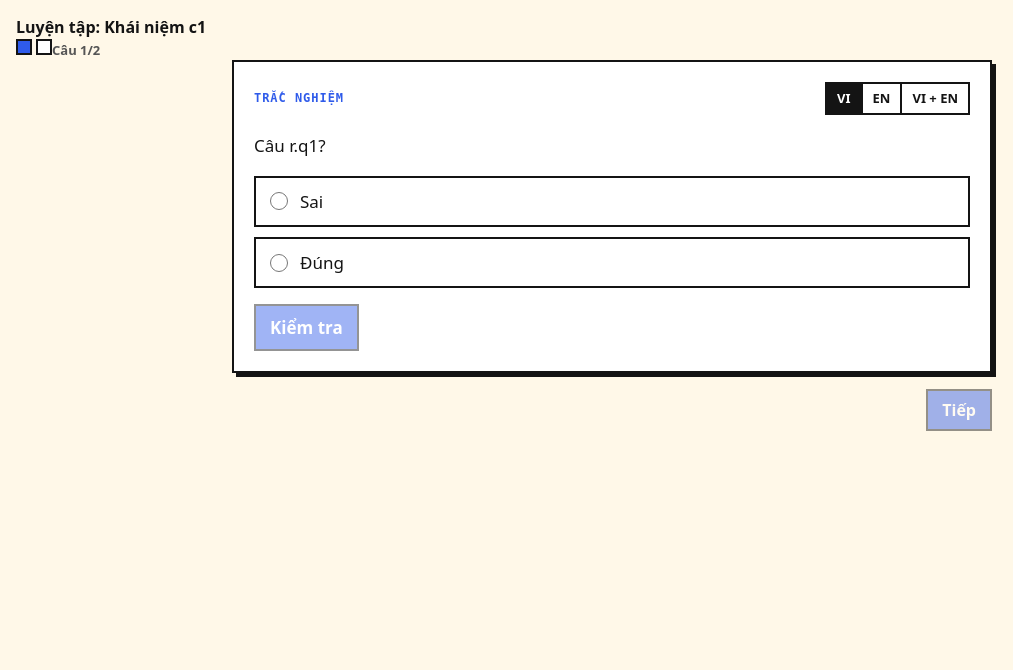
Test: PracticeScreen › 2 items at the child's level, then a short result
Expected: the heading "Luyện tập: Khái niệm c1" is shown, [16,16,206,38]
Expected: the text "Câu 1/2" is shown, [52,41,100,59]
Click the radio button labelled "Đúng" at (279, 263), box [270,254,288,272]
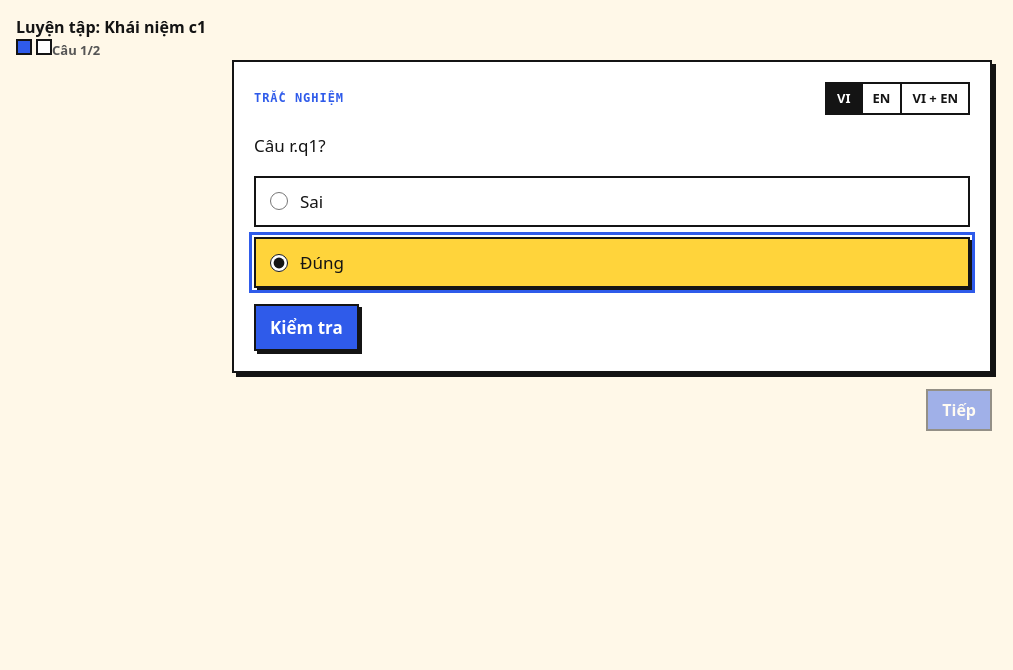
Click the button "Kiểm tra" at (306, 328), box [254,304,359,351]
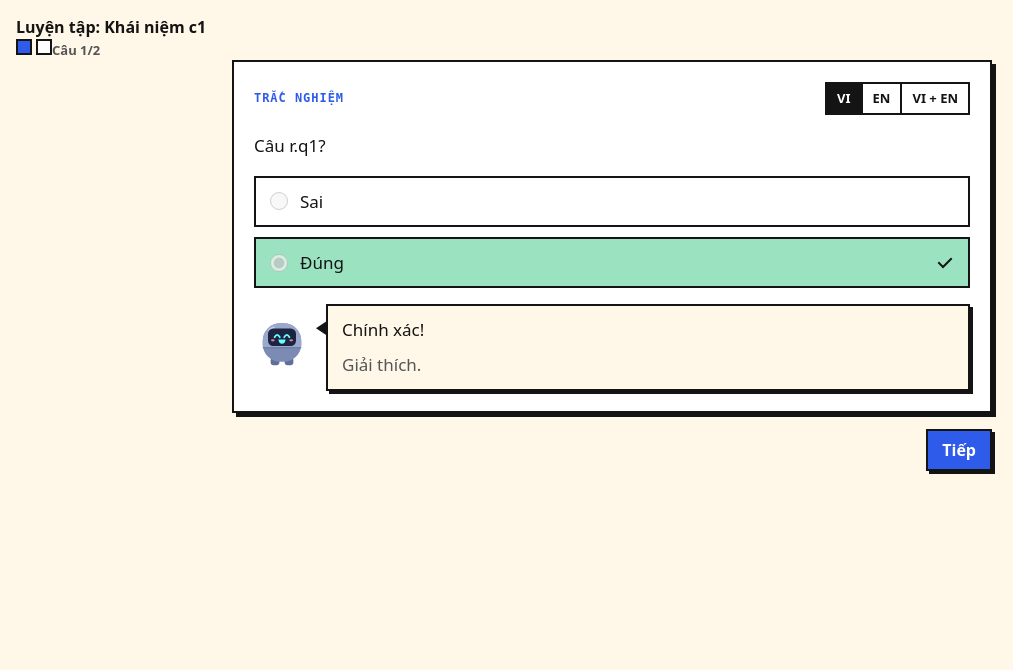
Click the button "Tiếp" at (959, 450), box [926,428,992,470]
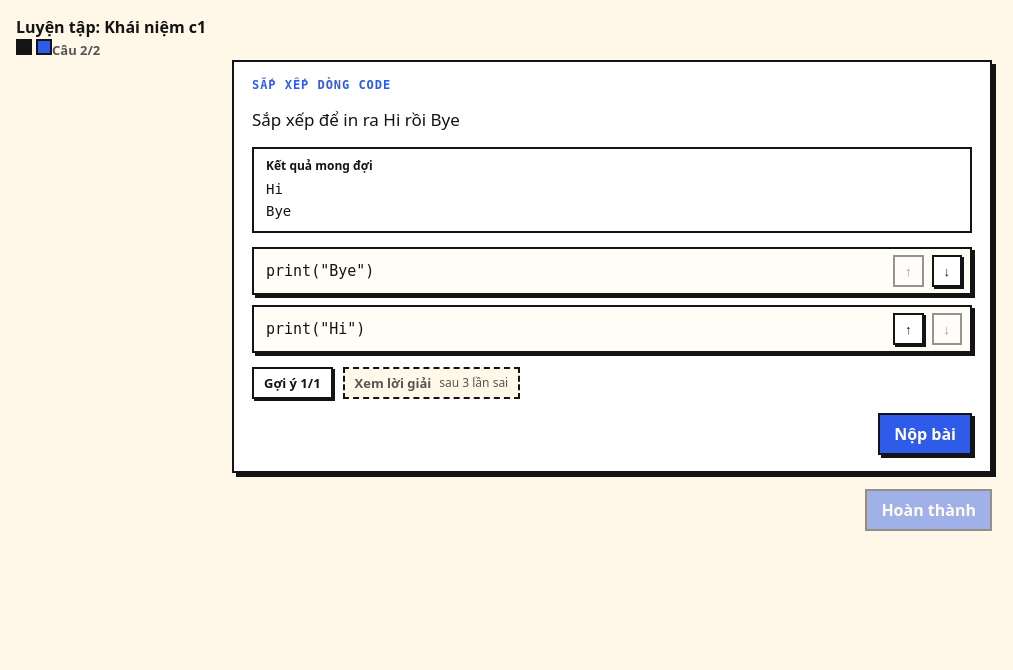
Expected: the text "Sắp xếp để in ra Hi rồi Bye" is shown, [252,108,460,131]
Click the button "Nộp bài" at (925, 434), box [878,413,972,455]
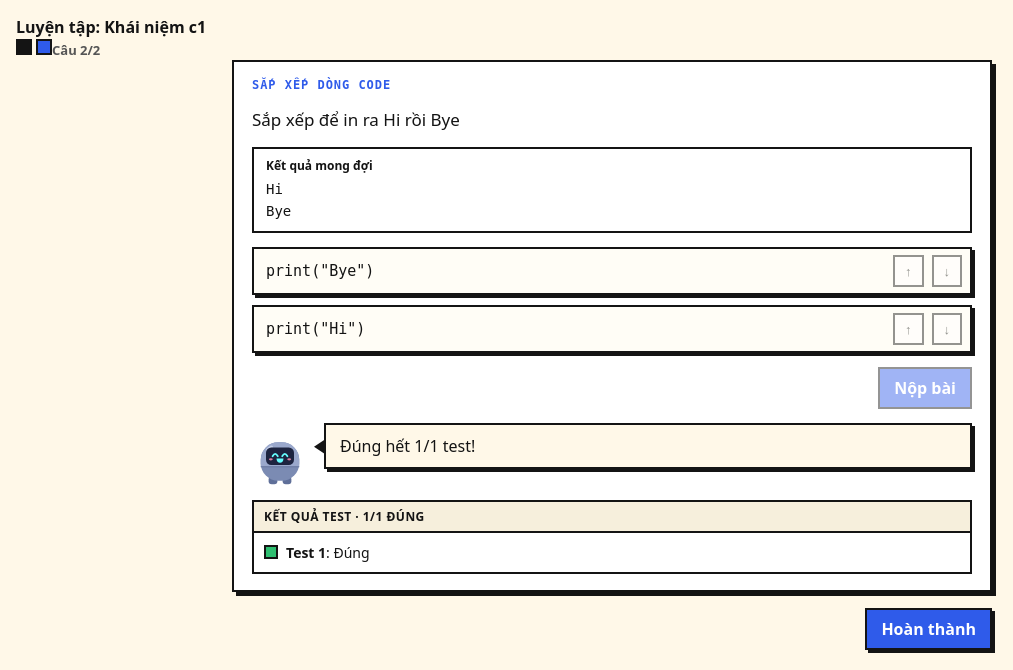
Click the button "Hoàn thành" at (929, 629), box [865,608,992,650]
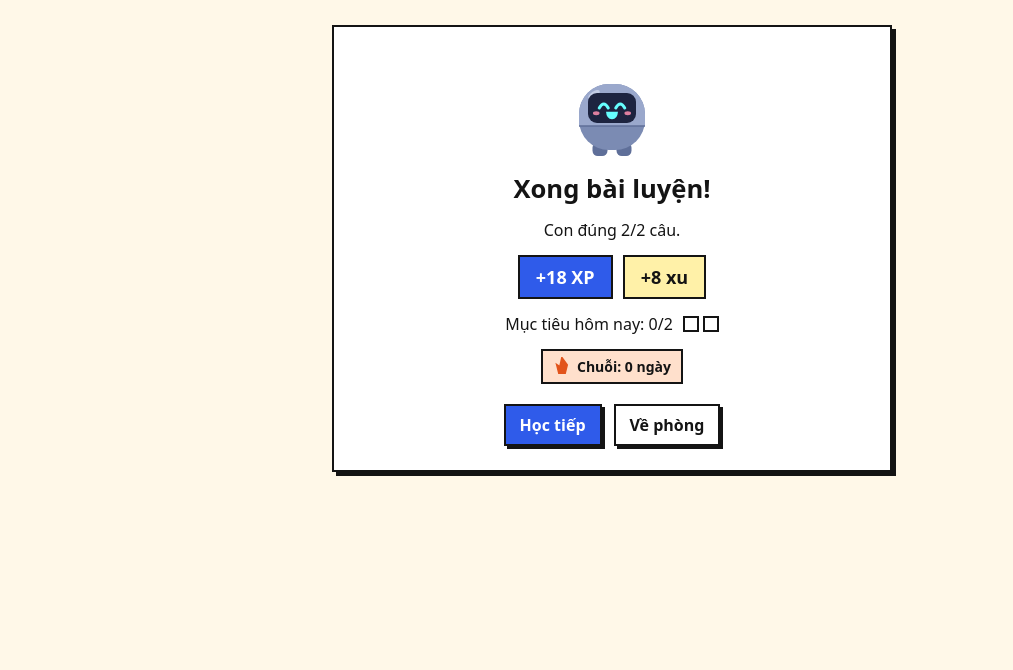
Expected: the heading "Xong bài luyện!" is shown, [513,173,711,205]
Expected: the text "Con đúng 2/2 câu." is shown, [544,219,680,241]
